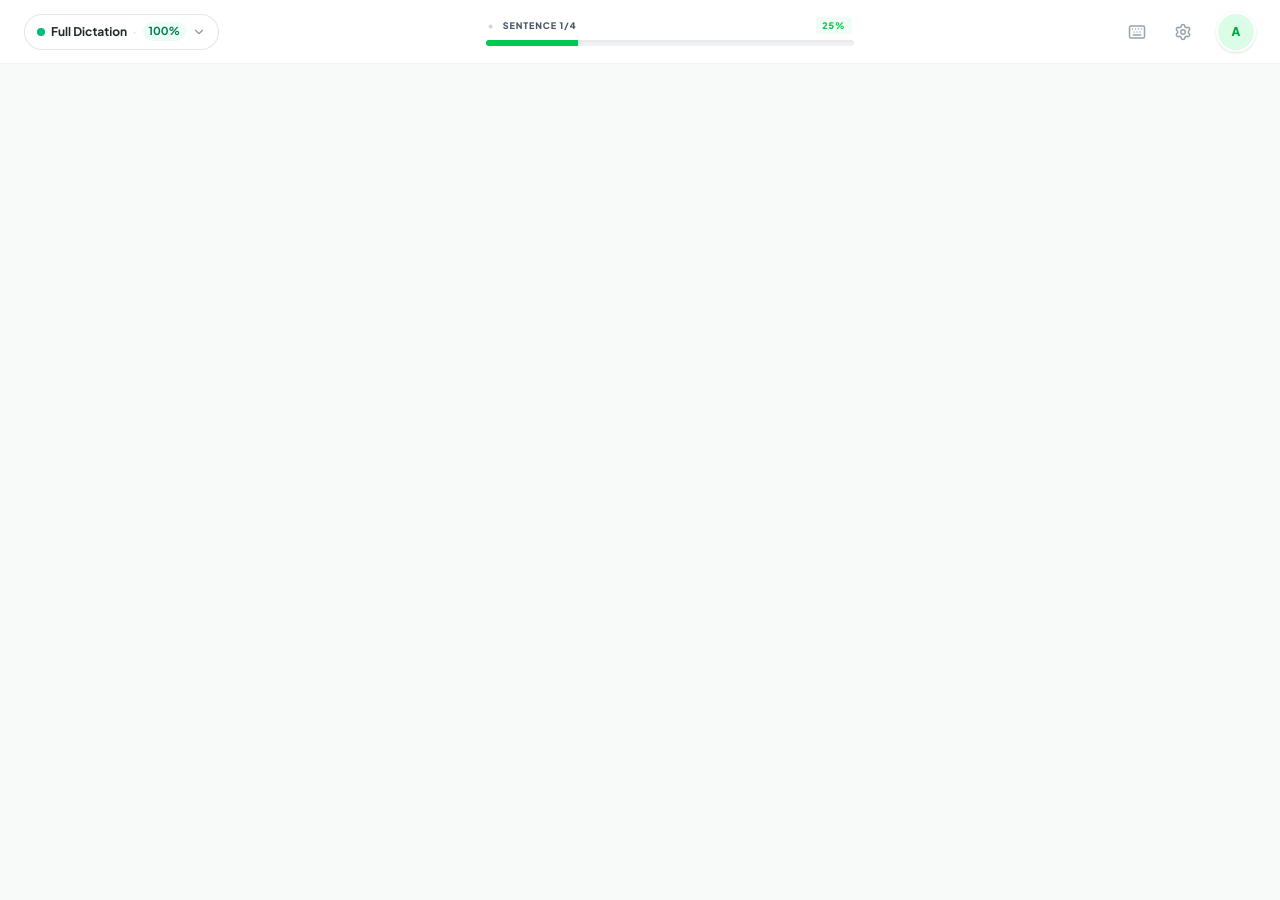
PracticeHeader › hides blank-specific shortcuts in FULL mode and closes on outside click
The width and height of the screenshot is (1280, 900).
Click the button named "keyboard shortcuts" at (1137, 32), box [1120,14,1154,48]
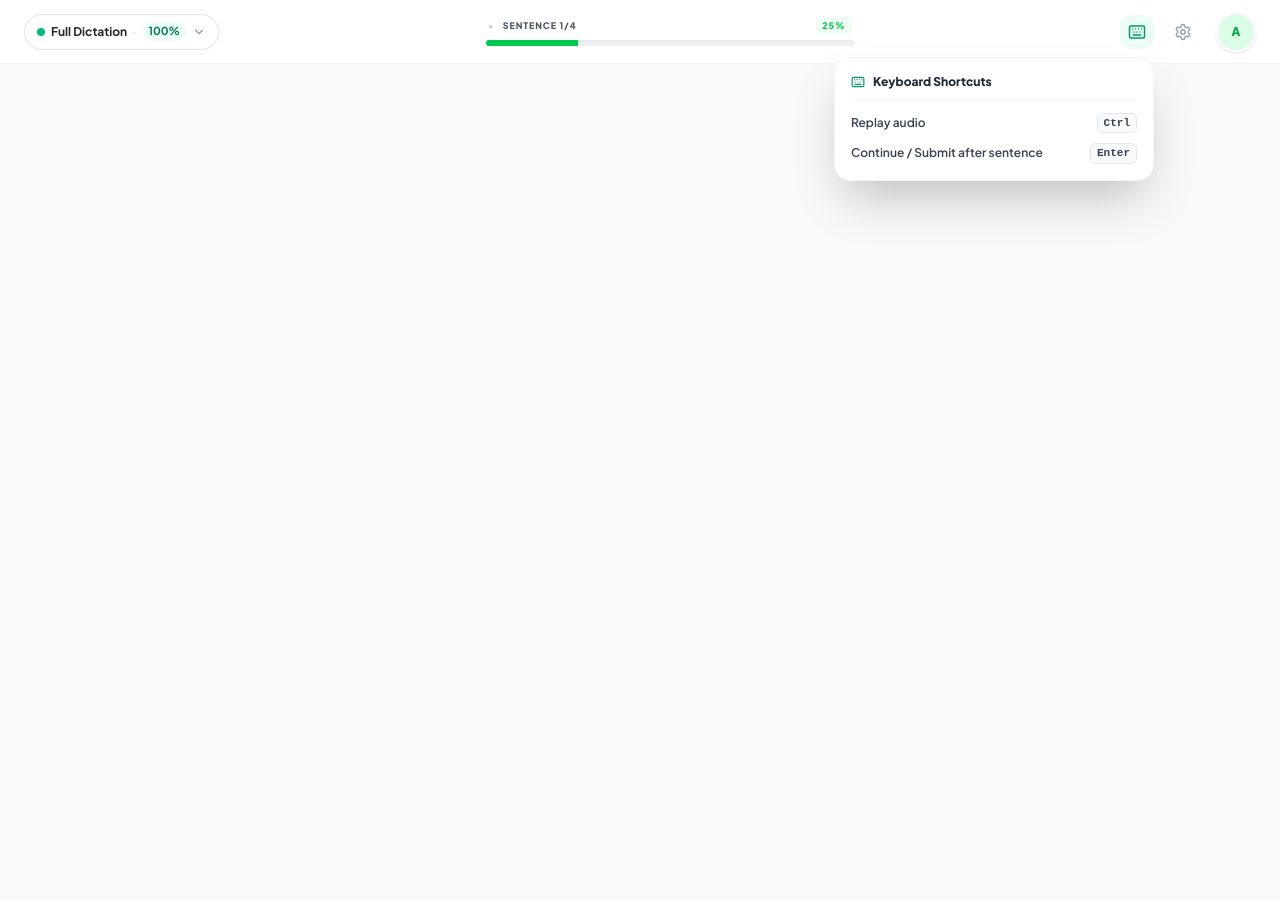
Check: the text "Ctrl" is shown, box [1097,112,1137,133]
Check: the text "Replay audio" is shown, box [851,115,926,131]
Press the mouse on the element that starts with "Full Dictation" at (640, 450), box [0,0,1279,899]
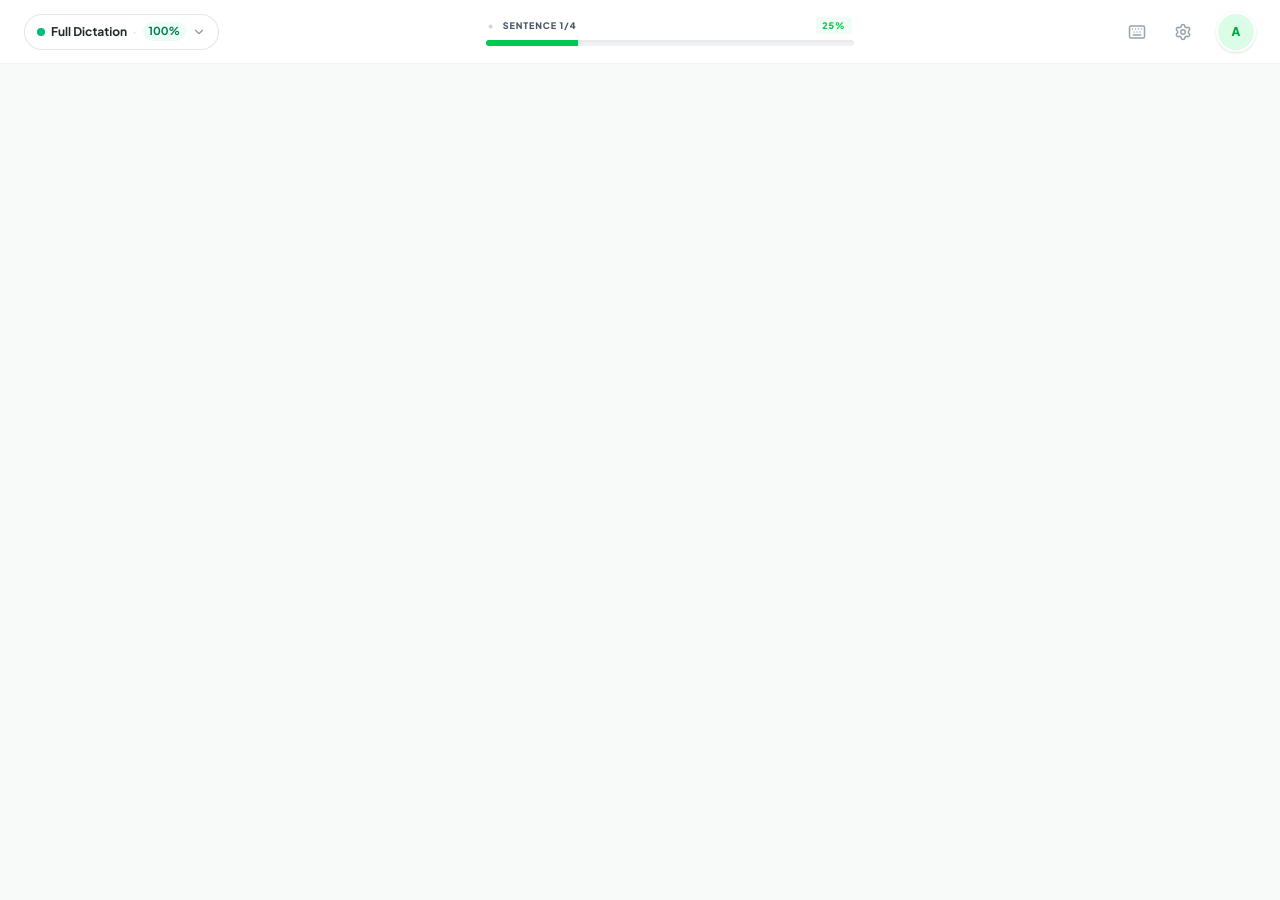
Check: the button named "keyboard shortcuts" is collapsed
// Re-open and verify focusin outside closes popover (Tab-out)
Click the button named "keyboard shortcuts" at (1137, 32), box [1120,14,1154,48]
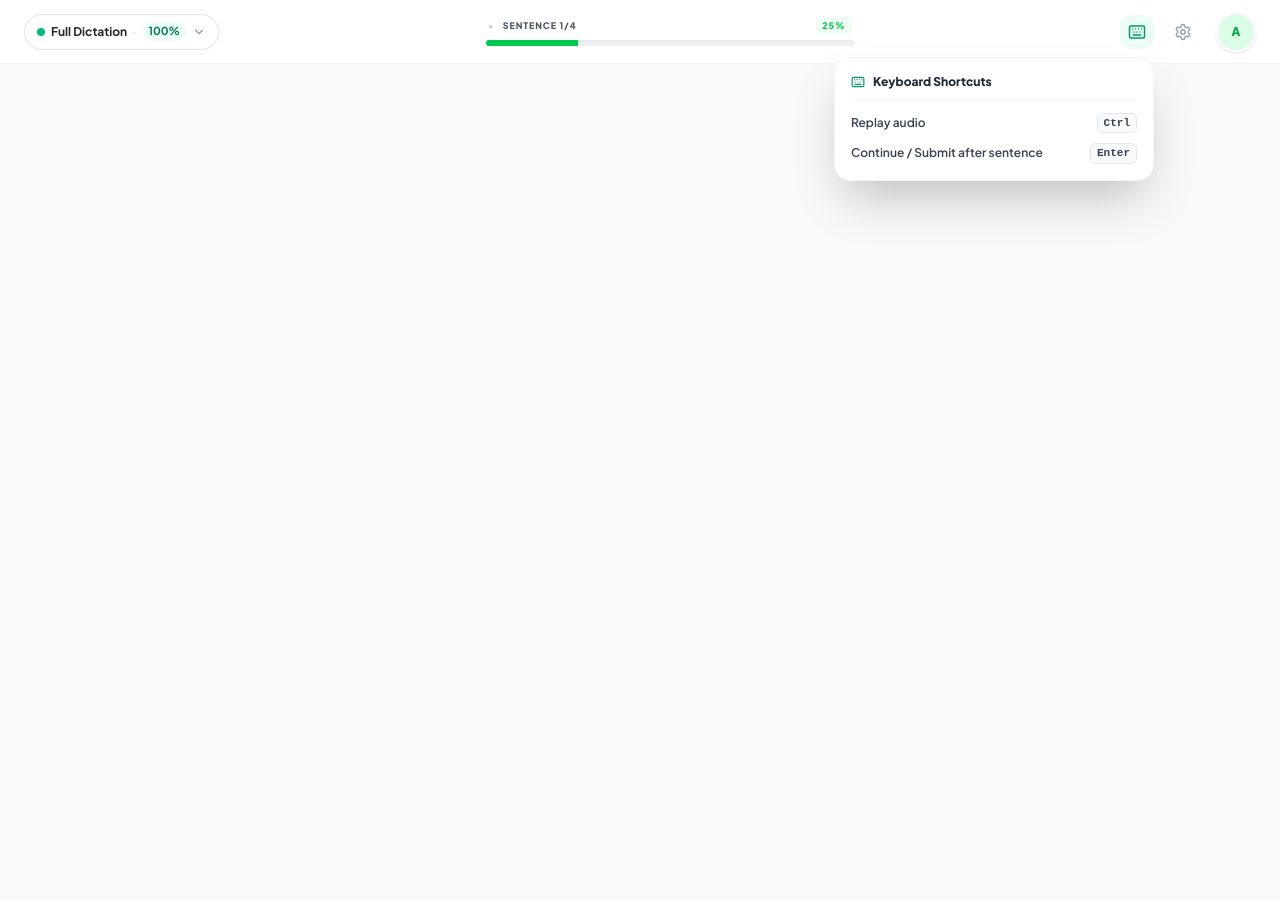
Check: the button named "keyboard shortcuts" is expanded, box [1120,14,1154,48]
Focus the element that starts with "Full Dictation" at (640, 450), box [0,0,1279,899]
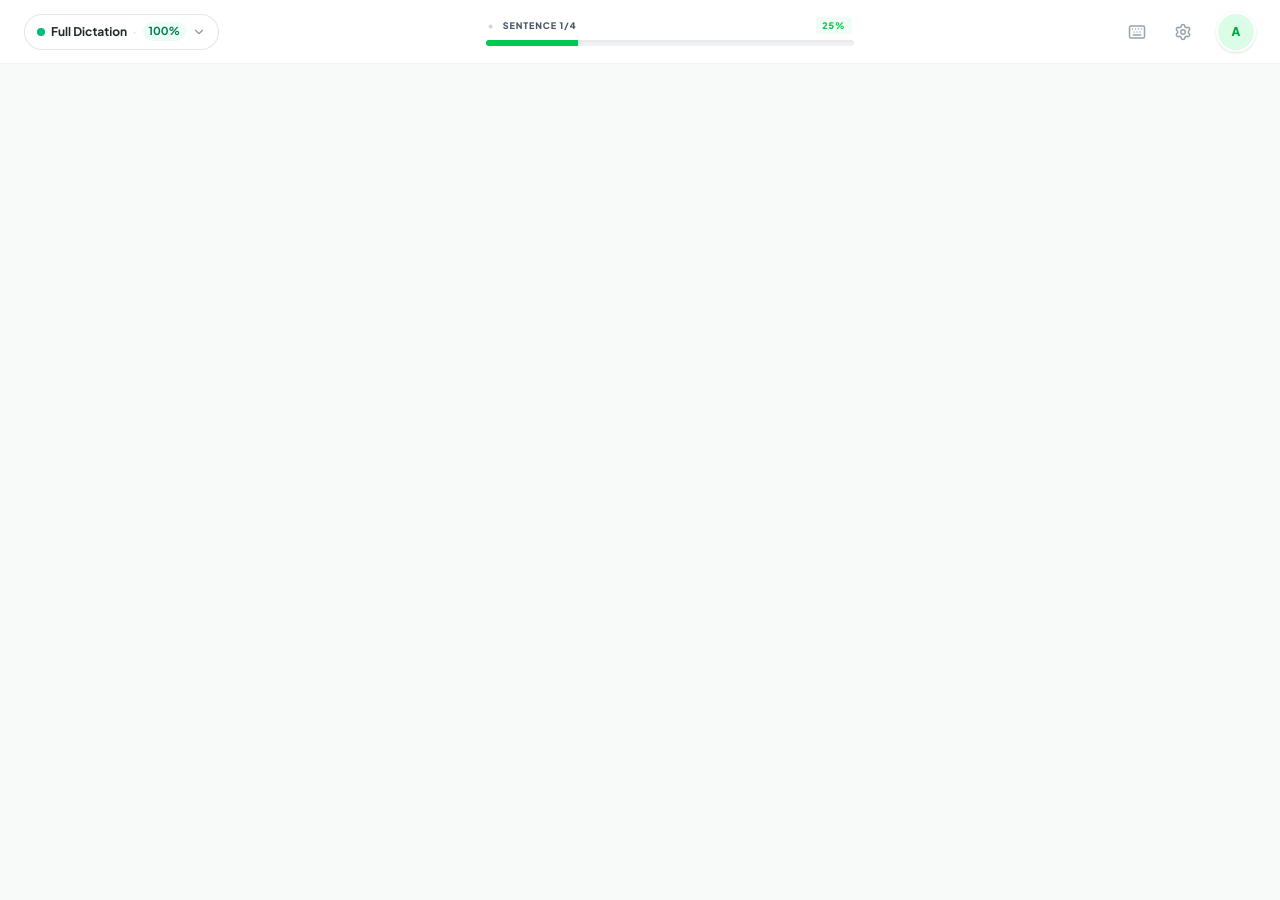
Check: the button named "keyboard shortcuts" is collapsed, box [1120,14,1154,48]
